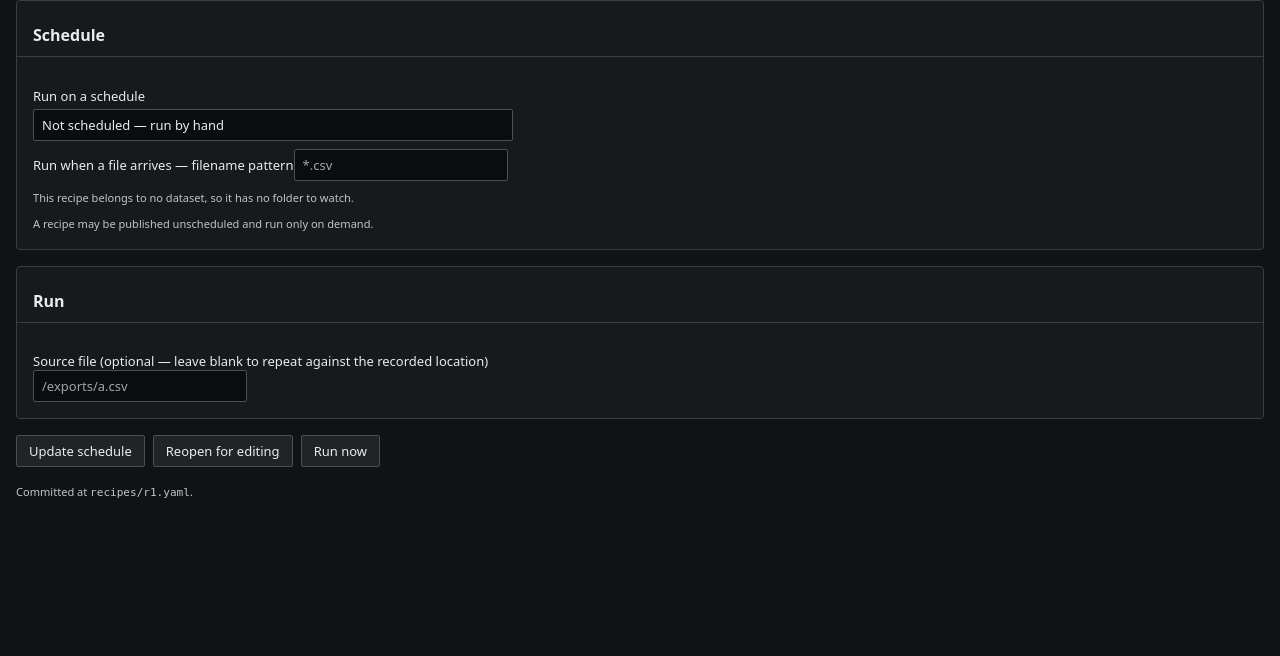
Test: PublishScreen › says what the case's rules did, and how many rows wait for review
The width and height of the screenshot is (1280, 656).
What coordinates should you click on to do the following:
click the button "Run now"
I would click on:
 (340, 451)
Its box is [301, 435, 380, 467].
(page scrolled)
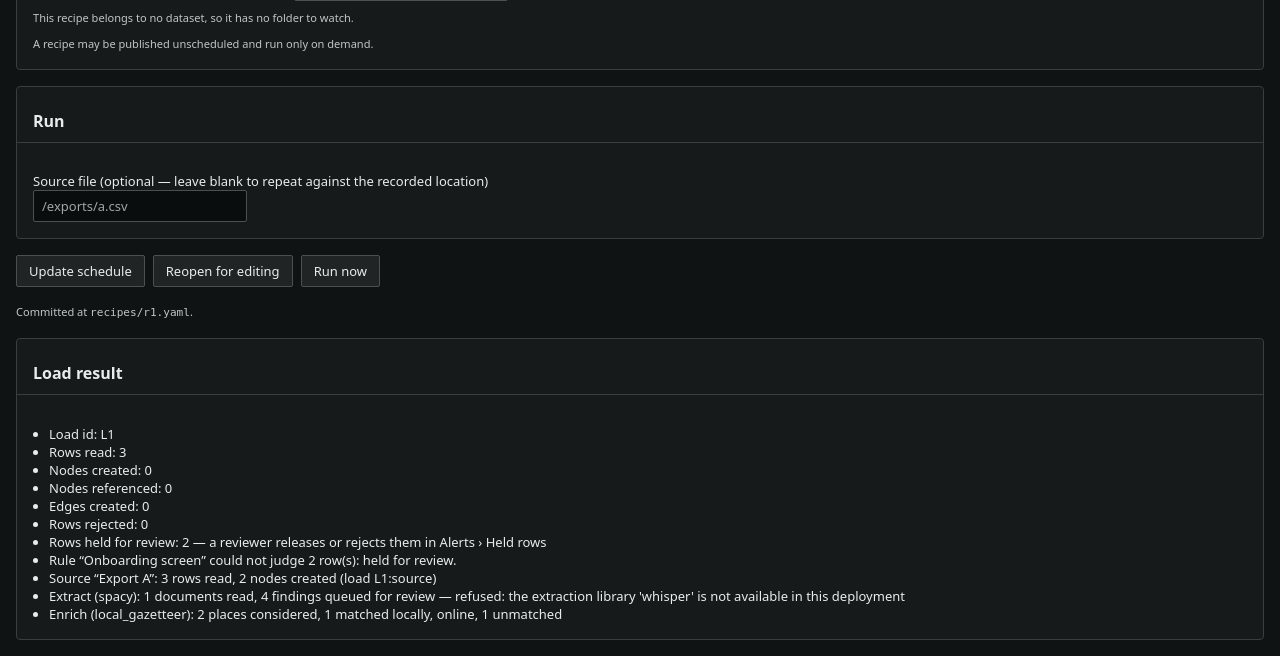
Check: the list item "Rows held for review: 2 — a reviewer releases or rejects them in Alerts › Held rows" is shown, box [49, 533, 546, 551]
Check: the list named "What the case's rules did" shows "could not judge 2 row(s)", box [49, 551, 456, 569]
